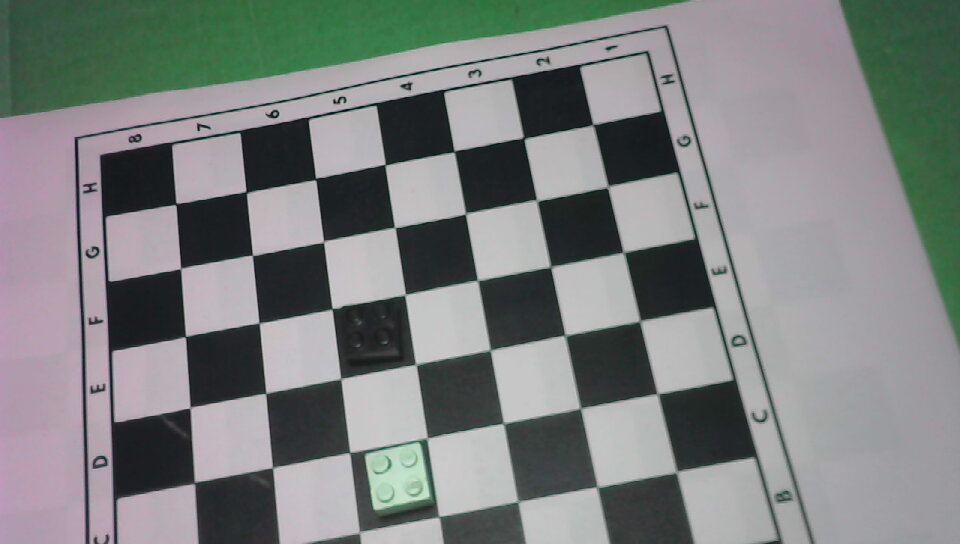bp: (337, 298, 409, 369)
